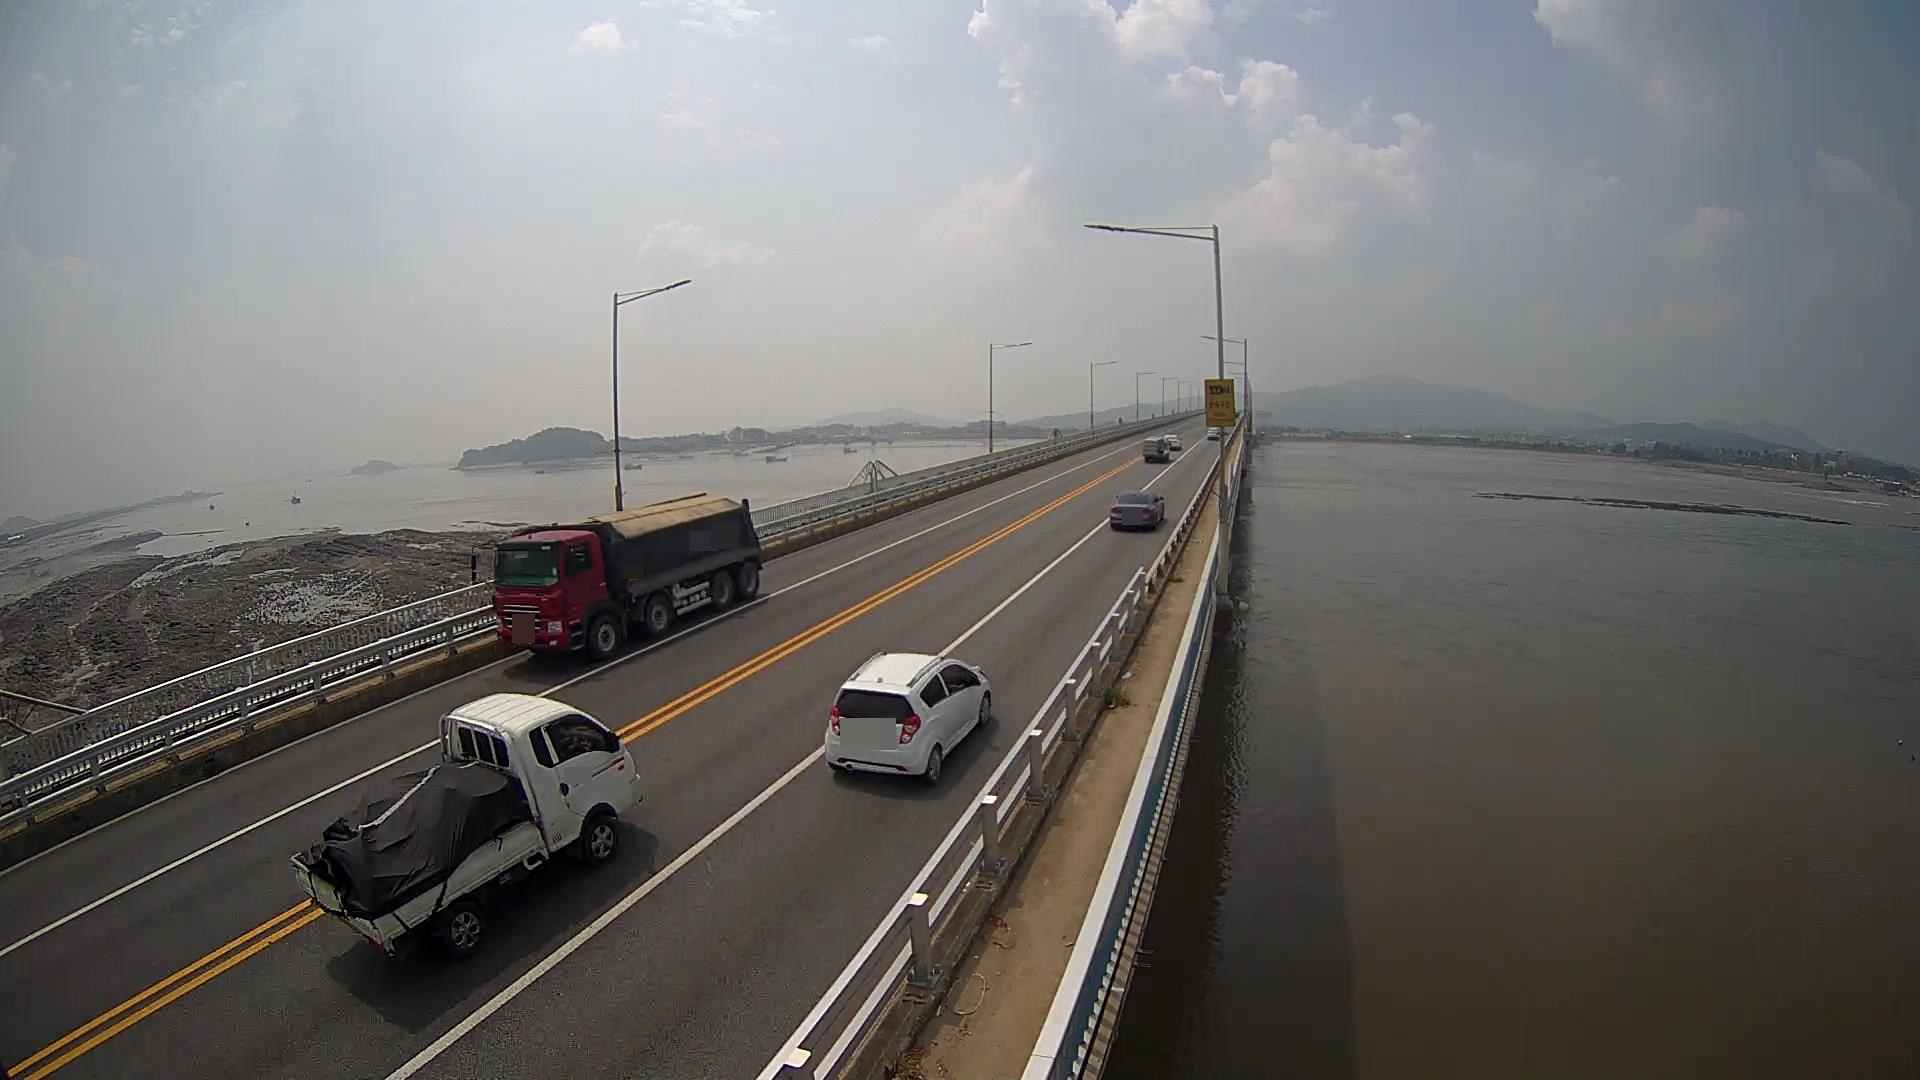정상차량: (470, 493, 764, 658)
